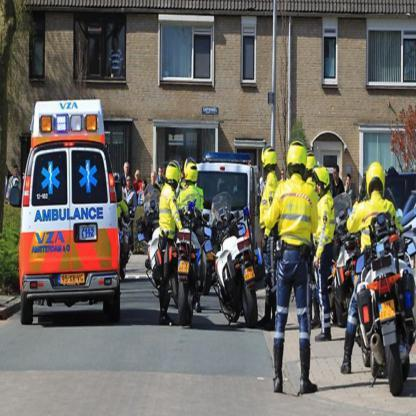Ambulance - v1 Ambulance last generate: (11, 97, 123, 326)
